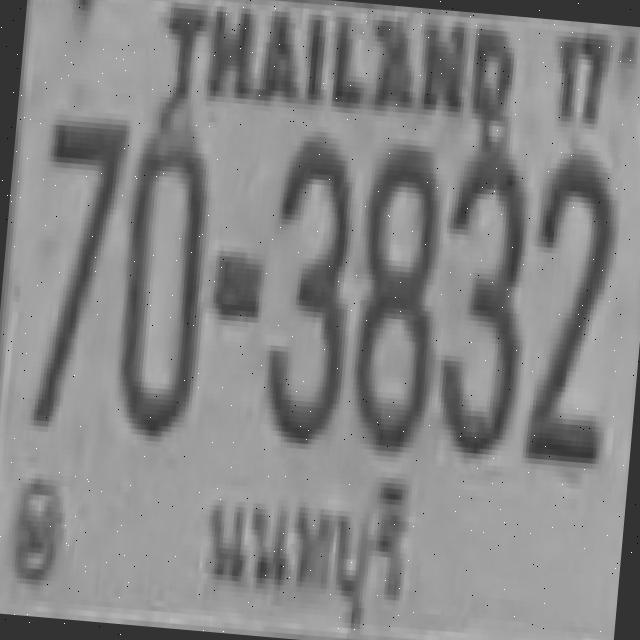0: (109, 121, 212, 433)
2: (518, 146, 620, 463)
3: (428, 138, 532, 456), (258, 128, 358, 440)
7: (22, 108, 126, 426)
8: (343, 136, 446, 448)
Nonthaburi: (188, 452, 423, 640)
